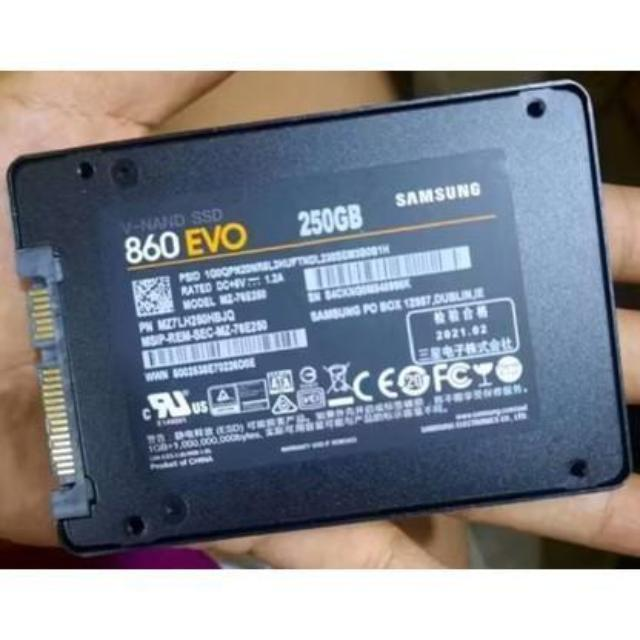DISK: (8, 88, 630, 554)
